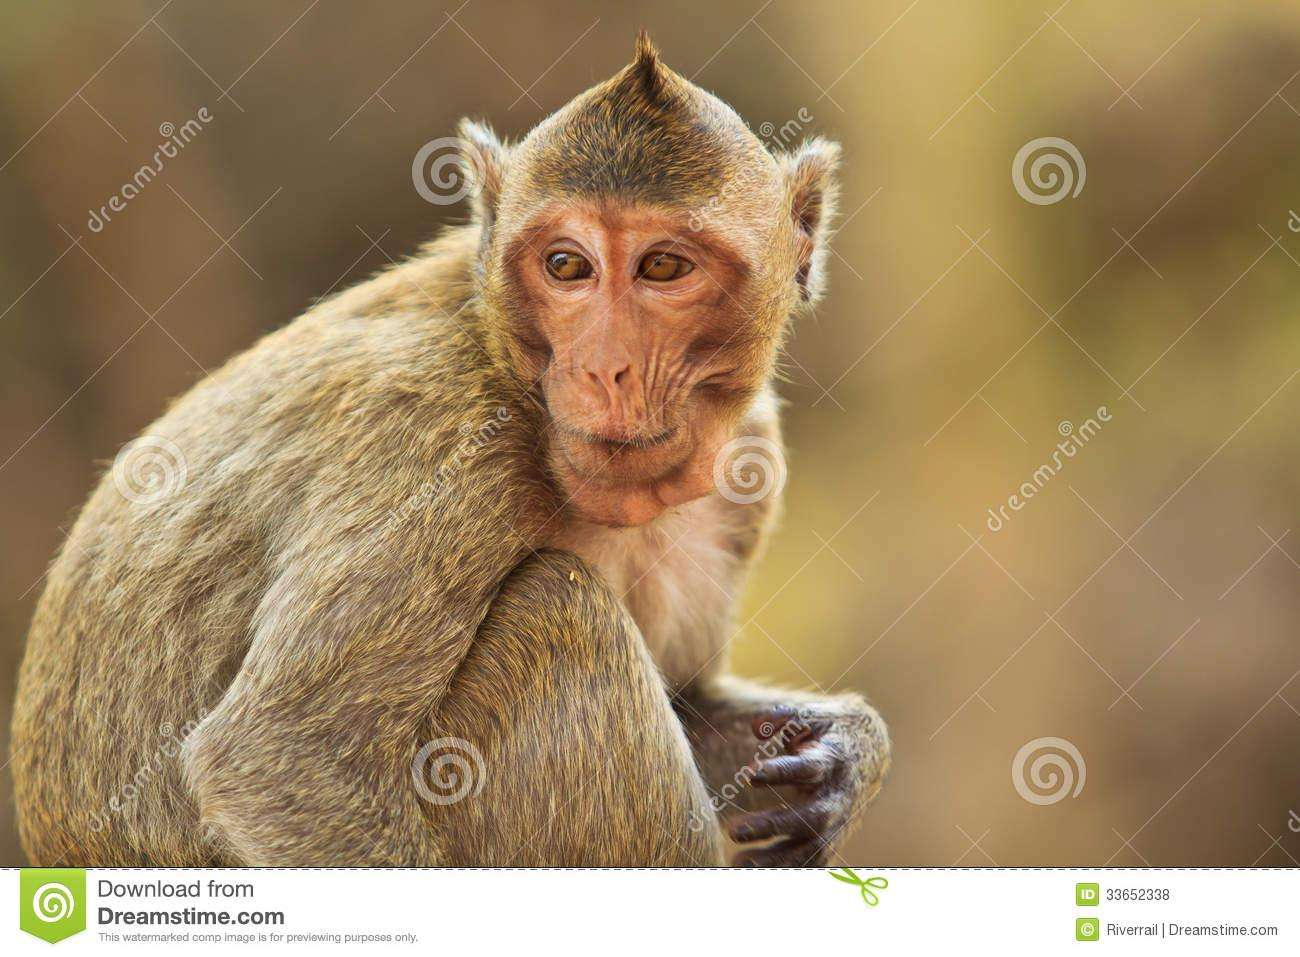monkey: (79, 31, 924, 866)
